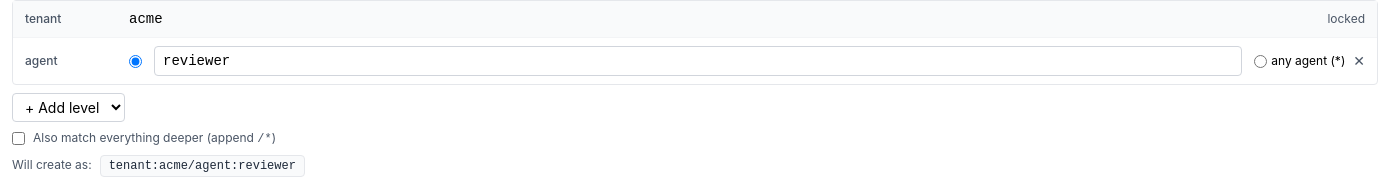
Scenario: ScopeBuilder › wildcards (allowWildcards=true) › picking "any id" disables the trailing /* checkbox (redundant + conflicting)
The width and height of the screenshot is (1378, 194).
Click the radio button labelled "any agent (*)". click: (1261, 61)
box: [1254,54,1267,68]
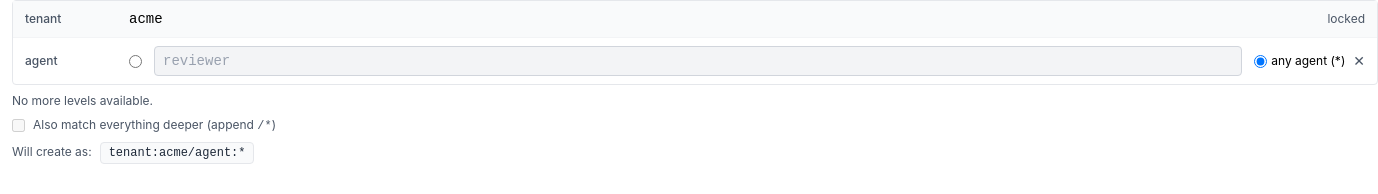
Check: the checkbox labelled "Also match everything deeper (append /*)" is disabled, box [12,119,25,132]
